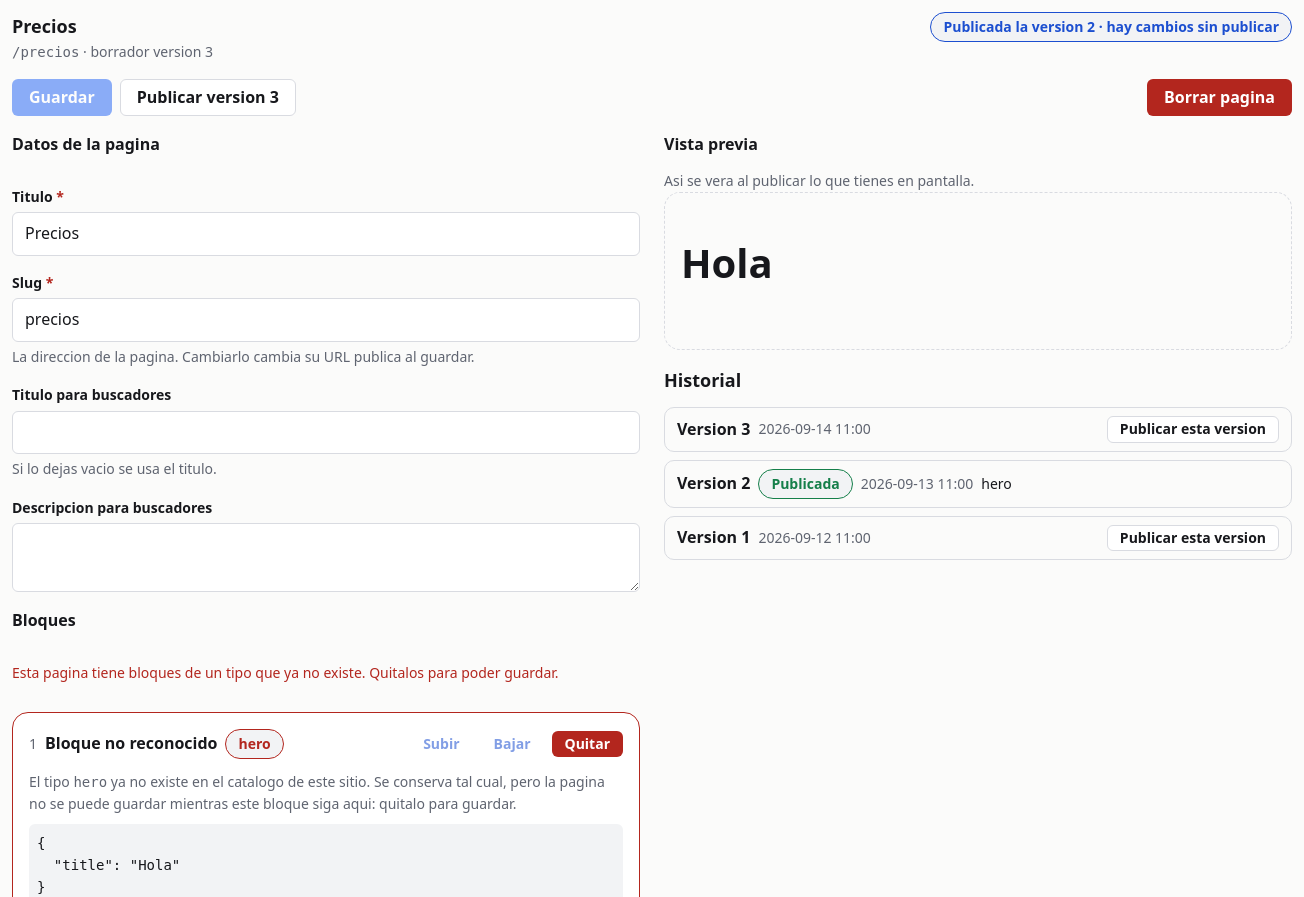
Test: EditorDePagina: publicar › un 403 al publicar dice que falta el permiso
Click the button "Publicar version 3". click: (208, 98)
box: [120,79,296,116]
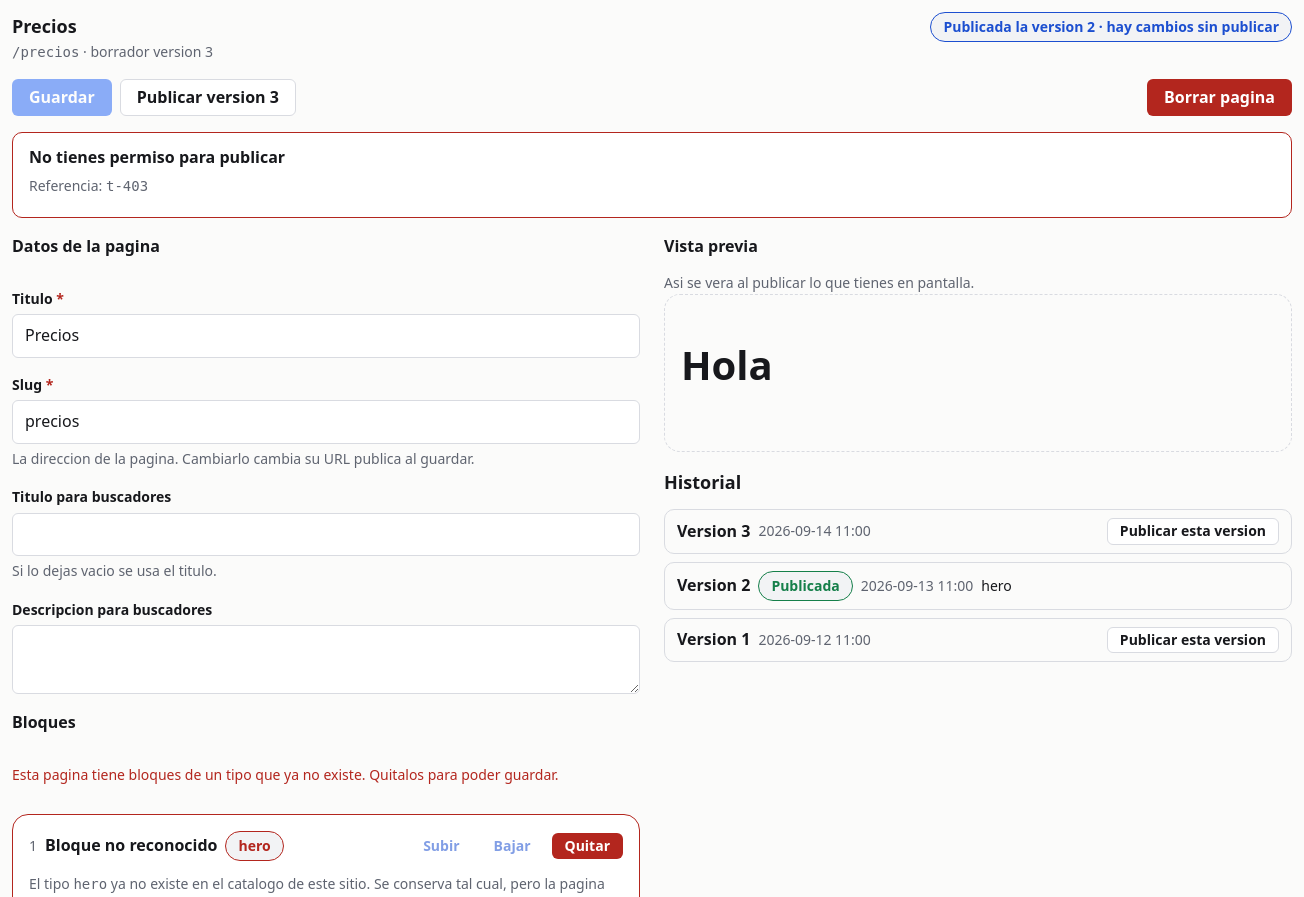
Expected: the message "No tienes permiso para publicar Referencia: t-403" is shown, [12,132,1292,218]
